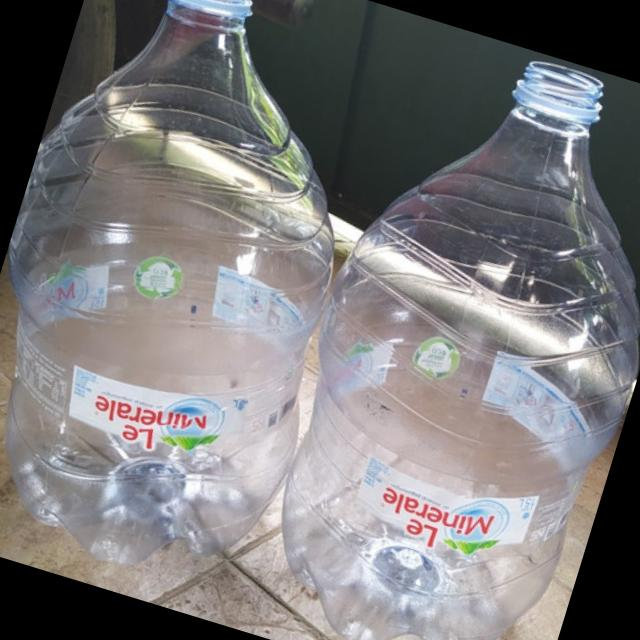Galon: (0, 0, 426, 605), (231, 18, 640, 640)
